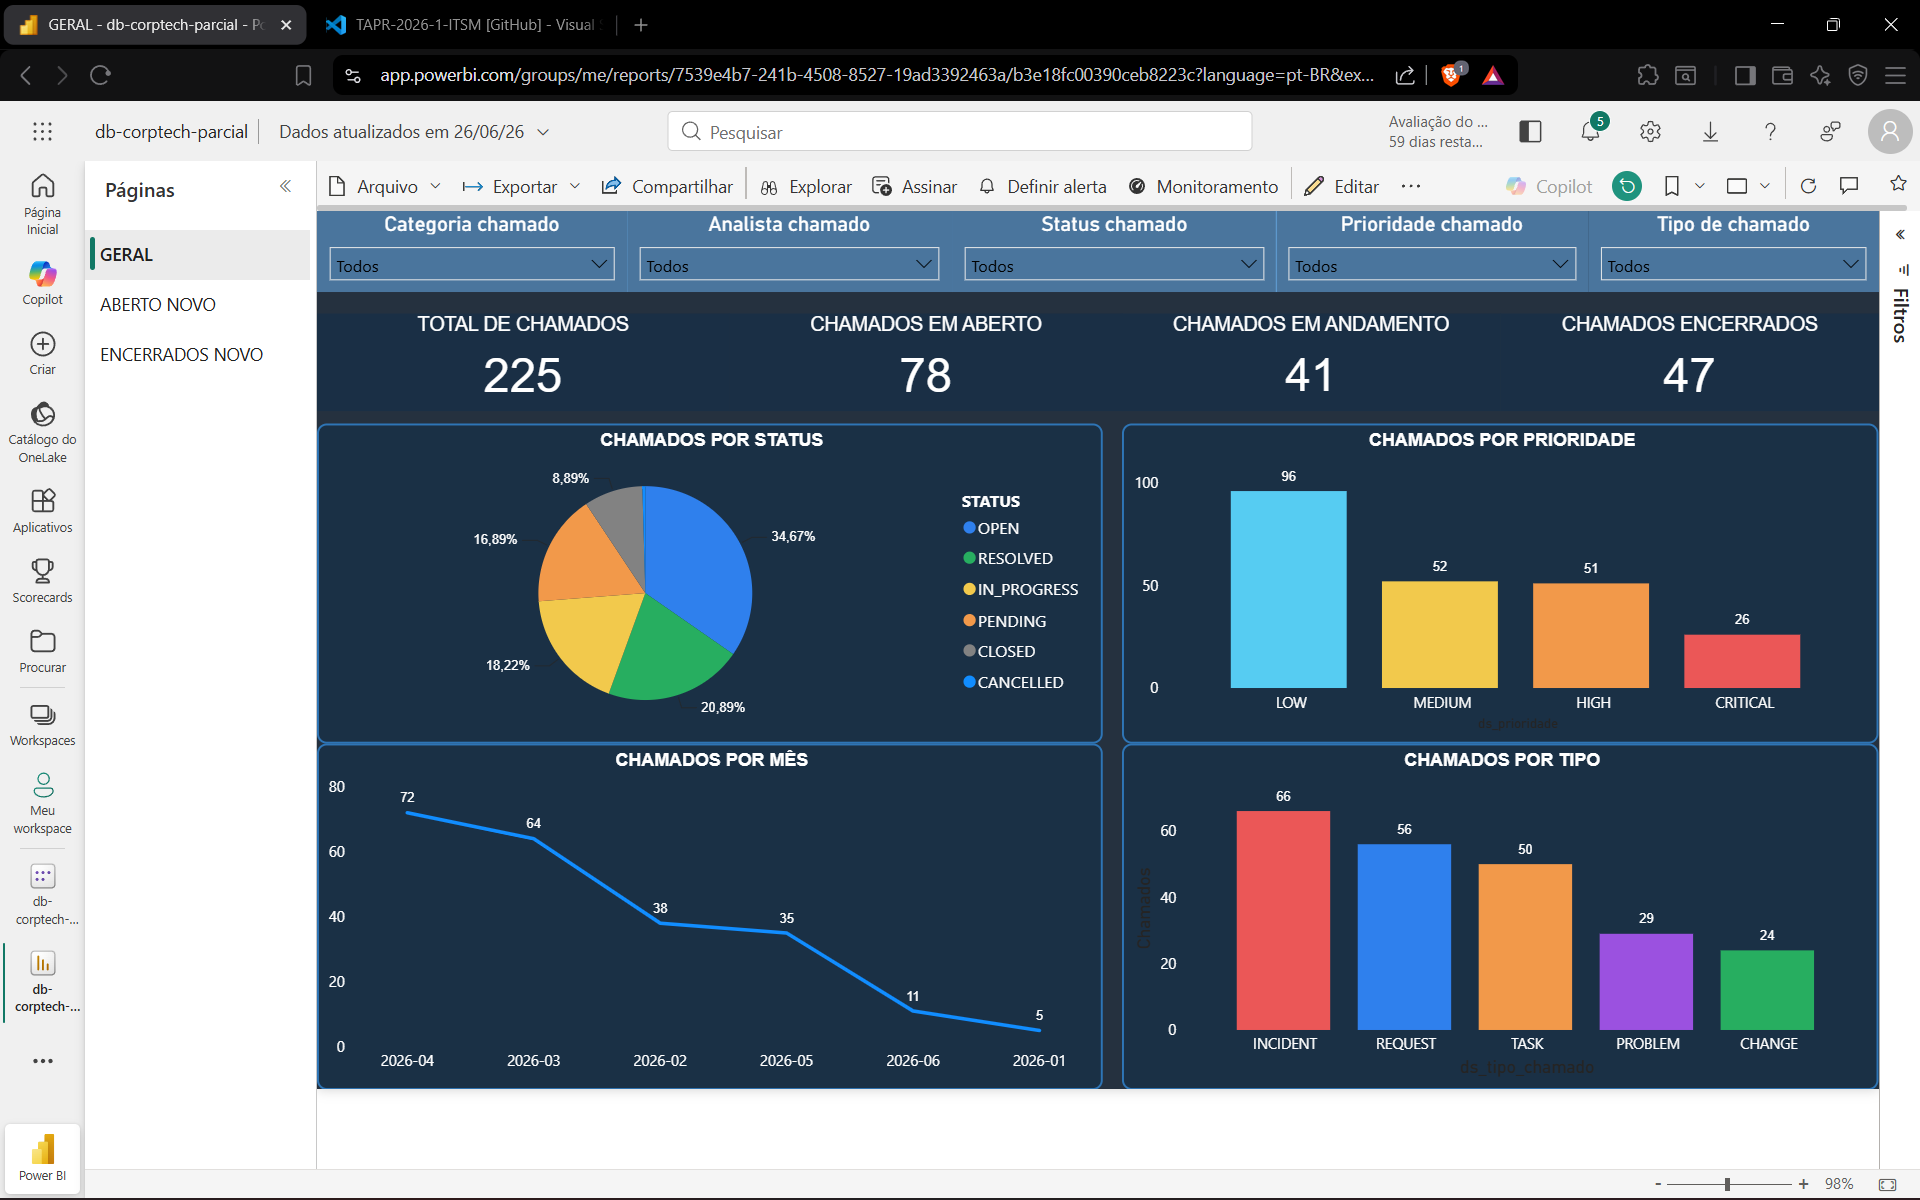

The page's visual inventory and layout, read from the dashboard file:
{"tool":"powerbi","page":{"name":"GERAL","canvas":[1280,720],"ordinal":0},"visuals":[{"type":"card","title":"TOTAL DE CHAMADOS","fields":{"Values":["chamado.Chamados"]},"box":[0,84,338,80],"z":0},{"type":"card","title":"CHAMADOS EM ABERTO","fields":{"Values":["chamado.Chamados Abertos"]},"box":[338,84,322,80],"z":1000},{"type":"card","title":"CHAMADOS EM ANDAMENTO","fields":{"Values":["chamado.Chamados Em Andamento"]},"box":[660,84,310,80],"z":2000},{"type":"card","title":"CHAMADOS ENCERRADOS","fields":{"Values":["chamado.Chamados Encerrados"]},"box":[970,84,310,80],"z":3000},{"type":"pieChart","title":"CHAMADOS POR STATUS","fields":{"Category":["chamado.ds_status_chamado"],"Y":["chamado.Chamados"]},"box":[0,174,644,262],"z":4000},{"type":"clusteredColumnChart","title":"CHAMADOS POR PRIORIDADE","fields":{"Category":["chamado.ds_prioridade"],"Y":["chamado.Chamados"]},"box":[660,174,620,262],"z":5000},{"type":"lineChart","title":"CHAMADOS POR MÊS","fields":{"Category":["chamado.AnoMes_Num"],"Y":["chamado.Chamados"]},"box":[0,436,644,284],"z":6000},{"type":"clusteredColumnChart","title":"CHAMADOS POR TIPO","fields":{"Category":["chamado.ds_tipo_chamado"],"Y":["chamado.Chamados"]},"box":[660,436,620,284],"z":7000},{"type":"slicer","title":"Categoria chamado","fields":{"Values":["corptech categoria.nm_categoria"]},"box":[0,0,254,66],"z":8000},{"type":"slicer","title":"Analista chamado","fields":{"Values":["corptech analista.nm_analista"]},"box":[254,0,266,66],"z":9000},{"type":"slicer","title":"Status chamado","fields":{"Values":["chamado.ds_status_chamado"]},"box":[520,0,266,66],"z":10000},{"type":"slicer","title":"Tipo de chamado","fields":{"Values":["chamado.ds_tipo_chamado"]},"box":[1042,0,238,66],"z":11000},{"type":"slicer","title":"Prioridade chamado","fields":{"Values":["chamado.ds_prioridade"]},"box":[786,0,256,66],"z":12000}]}

Visuals, with their boxes on the page's 1280x720 design canvas (x1, y1, x2, y2). These are canvas units, not pixel positions in the 1920x1200 screenshot, which may show the page scaled, cropped or inside an application window:
"TOTAL DE CHAMADOS" card: 0, 84, 338, 164
"CHAMADOS EM ABERTO" card: 338, 84, 660, 164
"CHAMADOS EM ANDAMENTO" card: 660, 84, 970, 164
"CHAMADOS ENCERRADOS" card: 970, 84, 1280, 164
"CHAMADOS POR STATUS" pieChart: 0, 174, 644, 436
"CHAMADOS POR PRIORIDADE" clusteredColumnChart: 660, 174, 1280, 436
"CHAMADOS POR MÊS" lineChart: 0, 436, 644, 720
"CHAMADOS POR TIPO" clusteredColumnChart: 660, 436, 1280, 720
"Categoria chamado" slicer: 0, 0, 254, 66
"Analista chamado" slicer: 254, 0, 520, 66
"Status chamado" slicer: 520, 0, 786, 66
"Tipo de chamado" slicer: 1042, 0, 1280, 66
"Prioridade chamado" slicer: 786, 0, 1042, 66
